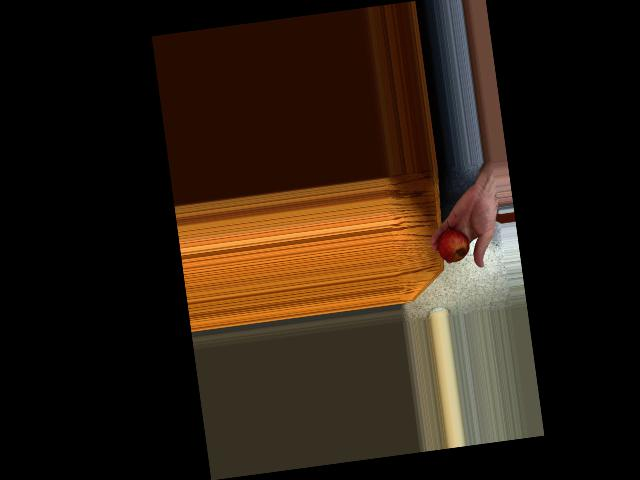apple: (435, 222, 474, 264)
